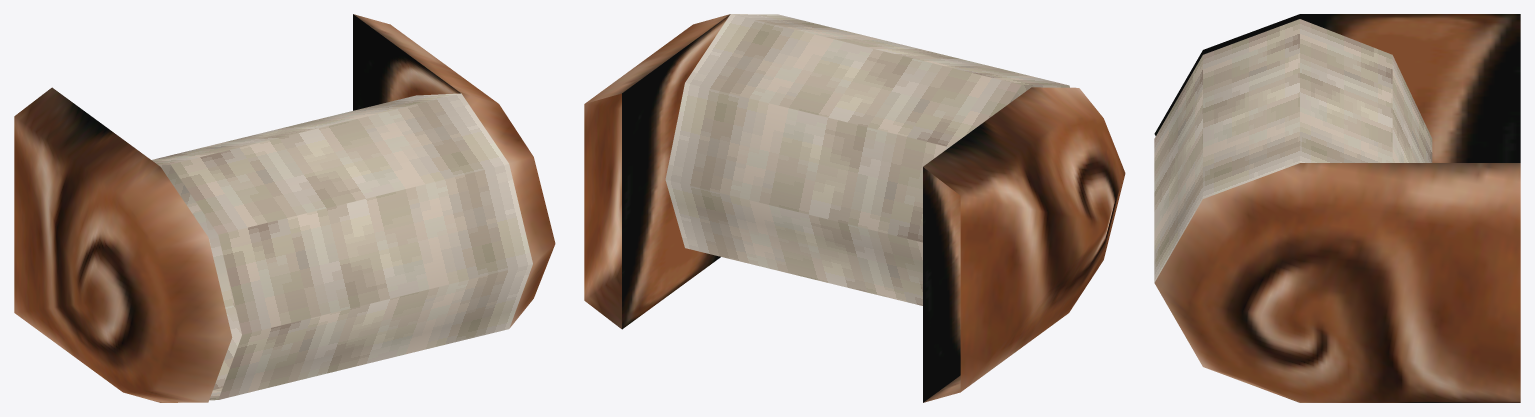
File: papa42_2.glb
3 renders of one model, left to right at view 1: azimuth 30°, elevation 25°; view 2: azimuth 150°, elevation 25°; view 3: azimuth 270°, elevation 25°, orthographic.
Parts seen in each view (by area): view 1: papa42_2; view 2: papa42_2; view 3: papa42_2.
Boxes of the visible parts, left/top/right/bottom form: papa42_2: left=14, top=14, right=555, bottom=402; papa42_2: left=584, top=14, right=1125, bottom=402; papa42_2: left=1154, top=14, right=1520, bottom=402.
Bounding box in the file's own units: 120 × 60 × 83.
2 materials, 2 textured.
